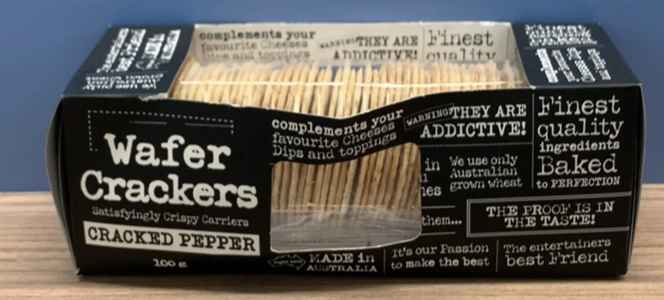crackers_100g-199g: (86, 54, 615, 266)
